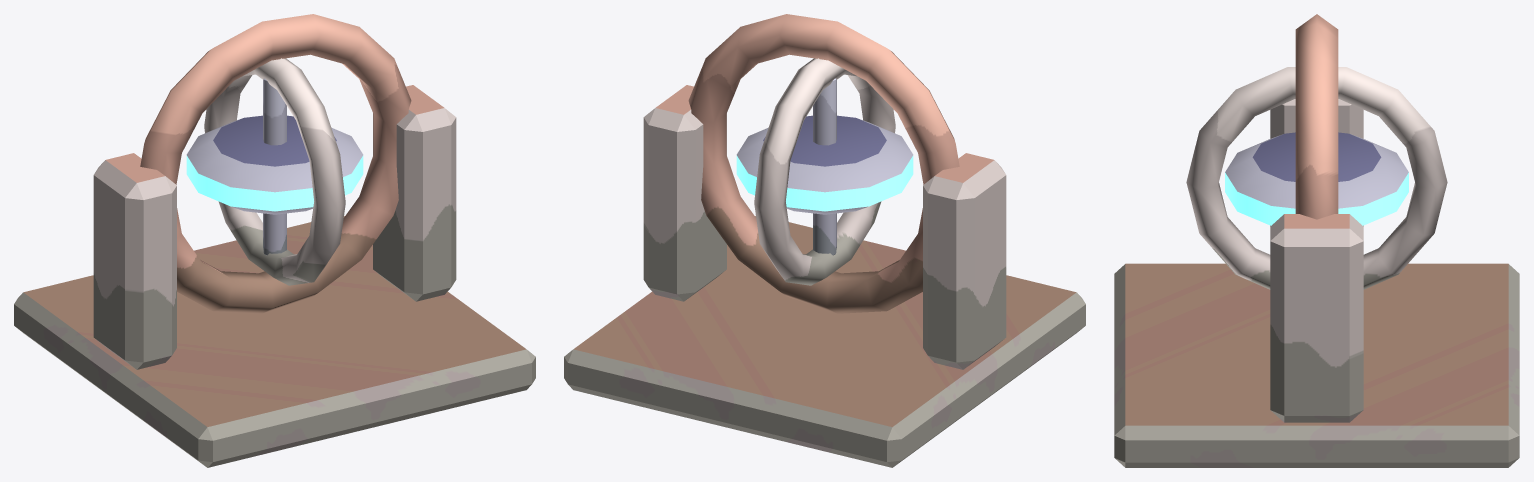
File: R4X_Gyroscope_LOD1.glb
3 views of the same model, side by side, from view 1: azimuth 30°, elevation 25°; view 2: azimuth 150°, elevation 25°; view 3: azimuth 270°, elevation 25° (orthographic). The views are drawn at different scales.
Visible parts, largest first — view 1: R4X_Gyroscope_LOD1; view 2: R4X_Gyroscope_LOD1; view 3: R4X_Gyroscope_LOD1.
Boxes of the visible parts, x1,y1,x2,y2 form: R4X_Gyroscope_LOD1: [14, 14, 535, 467]; R4X_Gyroscope_LOD1: [564, 14, 1085, 467]; R4X_Gyroscope_LOD1: [1114, 14, 1519, 467].
Size of the model in its own units: 0.52 by 0.505 by 0.52.
Materials: 5 (4 with a texture image).
